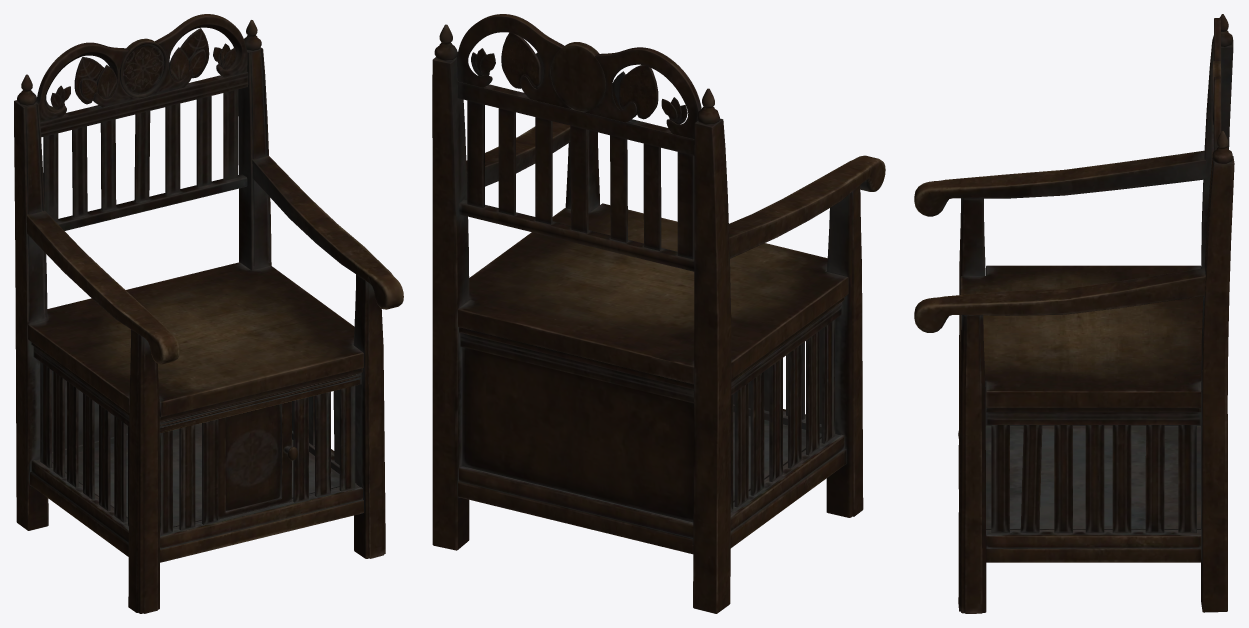
File: gallinera_chair_2k_web.glb
3 renders of one model, left to right at view 1: azimuth 30°, elevation 25°; view 2: azimuth 150°, elevation 25°; view 3: azimuth 270°, elevation 25°, orthographic. The views are drawn at different scales.
Visible parts, largest first — view 1: gallinera_chair; view 2: gallinera_chair; view 3: gallinera_chair.
Boxes of the visible parts, x1,y1,x2,y2 form: gallinera_chair: (14,14,403,613); gallinera_chair: (432,14,885,613); gallinera_chair: (914,14,1234,613).
Size of the model in its own units: 0.5808 by 1.03 by 0.6039.
Materials: 1 (1 with a texture image).
